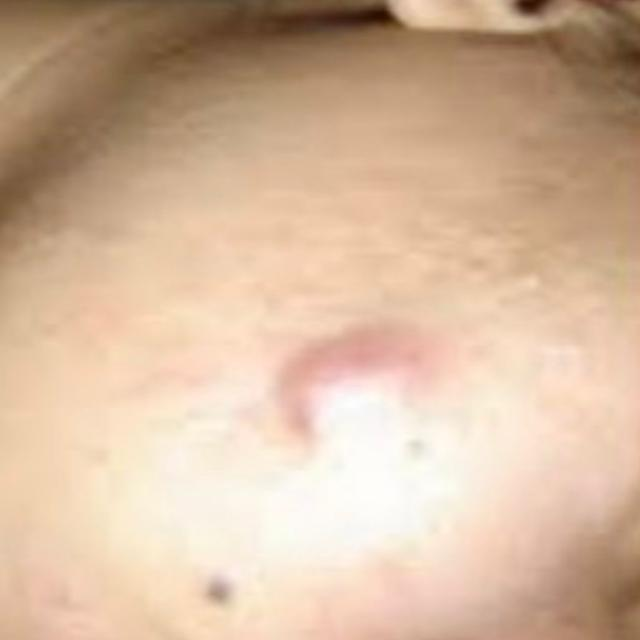nodule: (259, 300, 480, 471)
